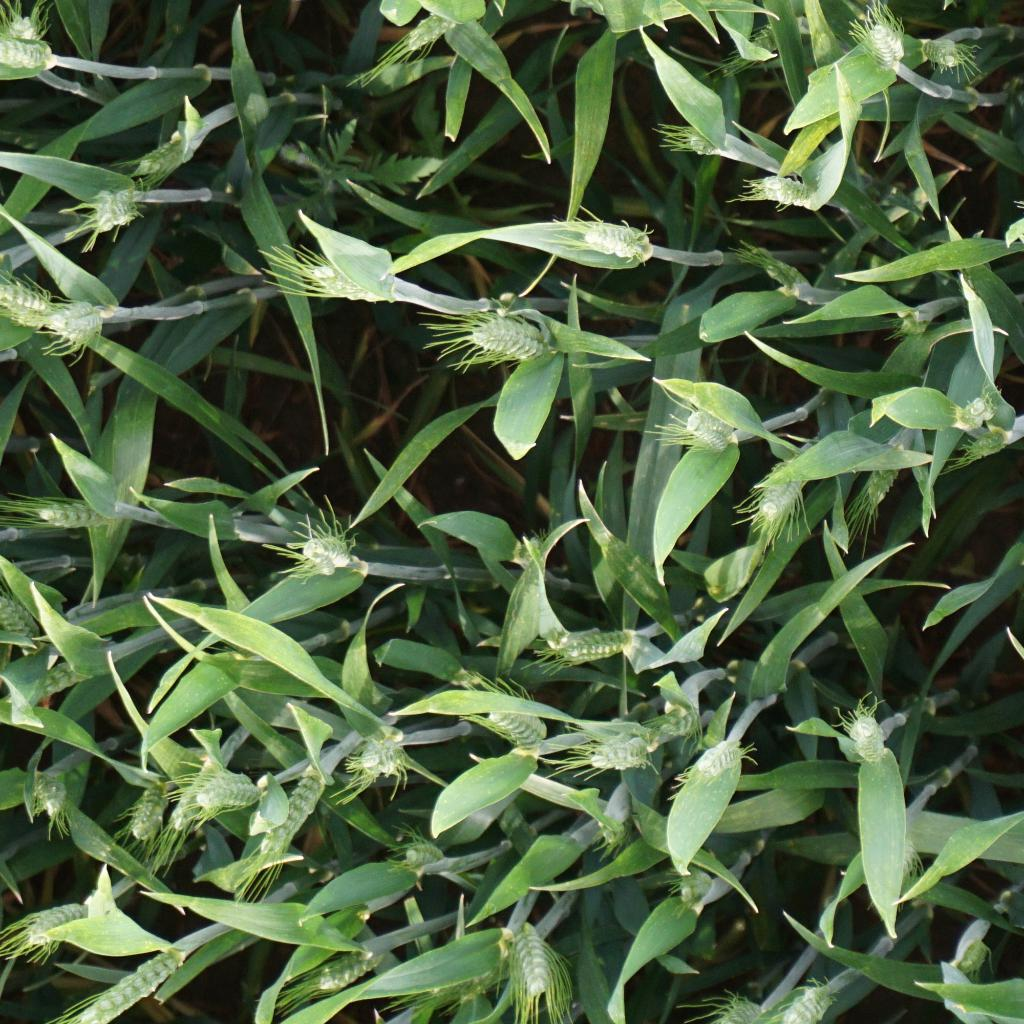0-0: (68, 936, 189, 1024), (260, 759, 331, 866), (276, 246, 397, 304), (458, 303, 559, 361), (864, 806, 915, 916), (505, 916, 560, 1012), (38, 486, 130, 532), (19, 655, 111, 699), (20, 900, 93, 954), (394, 0, 472, 47), (126, 770, 170, 852), (480, 698, 545, 752), (759, 460, 810, 527), (195, 769, 266, 816), (862, 441, 908, 510), (137, 129, 198, 181), (314, 948, 382, 992), (432, 958, 498, 1001), (0, 587, 44, 648), (557, 624, 630, 660), (356, 732, 407, 783), (588, 731, 654, 770), (0, 277, 52, 326), (844, 711, 893, 763), (584, 224, 651, 262), (863, 18, 906, 75), (43, 302, 101, 344), (781, 979, 835, 1024), (301, 528, 354, 572), (89, 187, 138, 233), (685, 403, 730, 452), (759, 249, 809, 293), (756, 173, 820, 207), (0, 31, 52, 71), (696, 739, 746, 778), (28, 774, 68, 822), (678, 863, 715, 911), (744, 20, 783, 62), (916, 35, 963, 68), (399, 837, 450, 866), (958, 929, 990, 972), (656, 708, 696, 741), (679, 124, 721, 155), (971, 426, 1010, 455), (8, 310, 62, 330), (958, 392, 995, 421), (594, 820, 628, 848), (902, 307, 931, 337)
